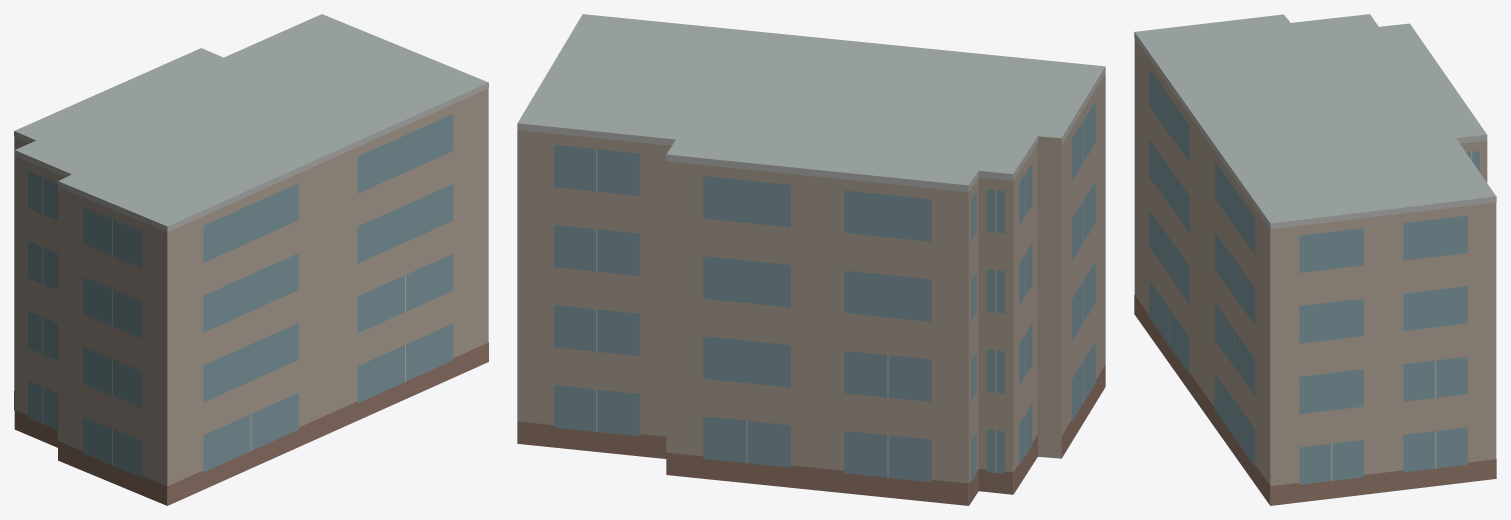
Rendered from survey-upis-32702479.glb.
The picture shows the model from 3 angles, left to right: view 1: azimuth 30°, elevation 25°; view 2: azimuth 150°, elevation 25°; view 3: azimuth 270°, elevation 25°; orthographic projection. The views are drawn at different scales.
Visible parts, largest first — view 1: survey-upis-32702479.tmp; view 2: survey-upis-32702479.tmp; view 3: survey-upis-32702479.tmp.
Part boxes in pixels (box(x1,y1,x2,y2)): survey-upis-32702479.tmp: box(14, 14, 488, 505); survey-upis-32702479.tmp: box(517, 14, 1105, 505); survey-upis-32702479.tmp: box(1134, 14, 1496, 505).
Bounding box in the file's own units: 18.63 × 11.7 × 13.6.
